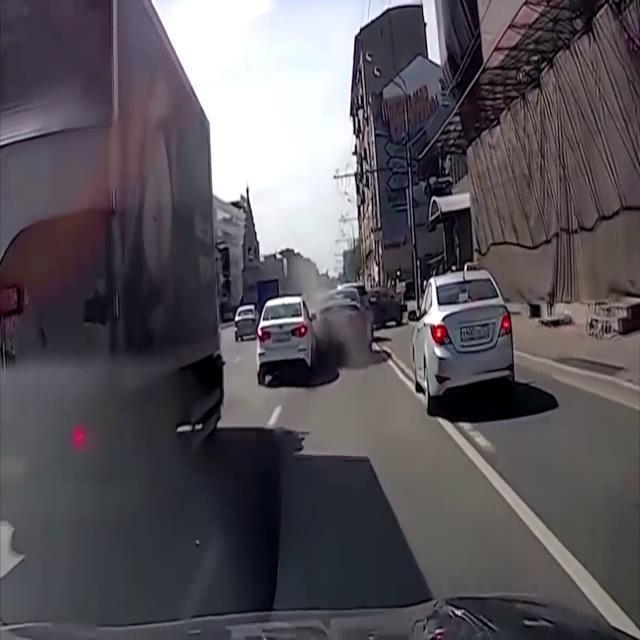accident: (255, 288, 375, 386)
